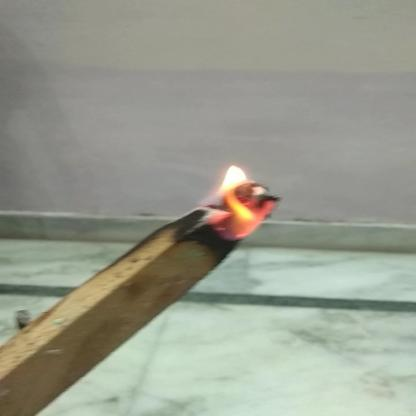fire: (193, 155, 285, 246)
